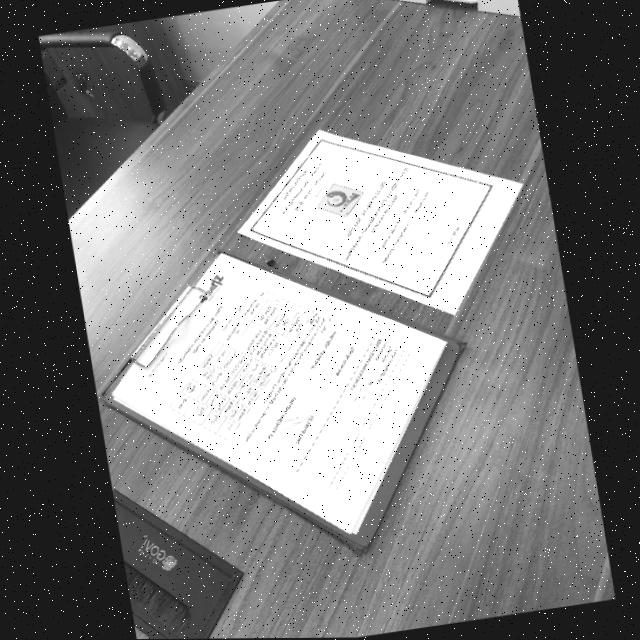document: (110, 254, 448, 537), (239, 130, 522, 314)
